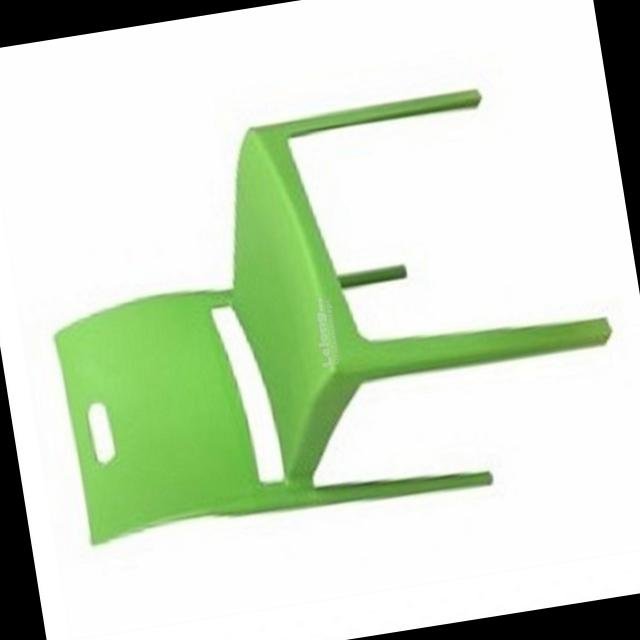Chair: (18, 35, 636, 554)
